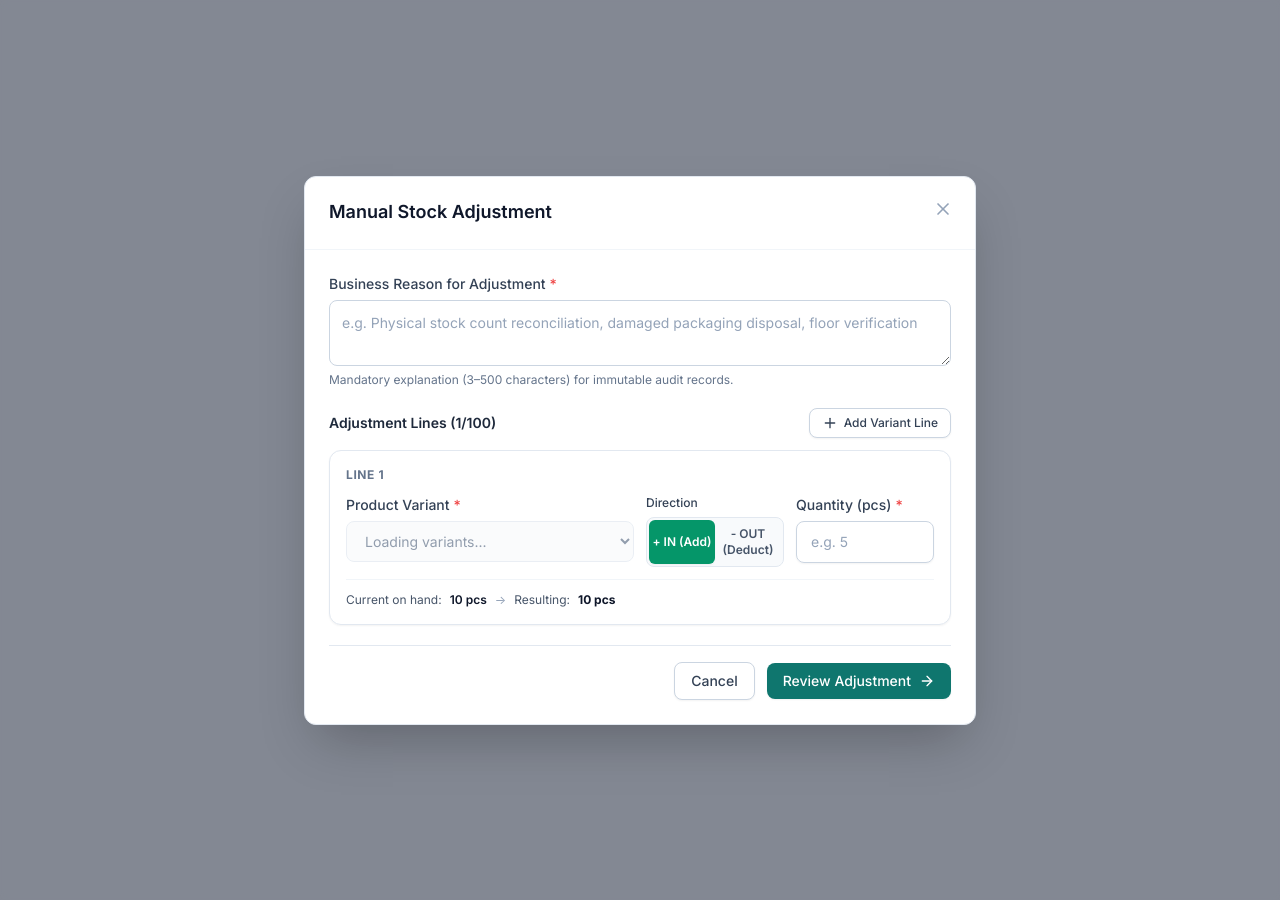
Scenario: StockAdjustmentModal Component Tests › proceeds to review step and commits adjustment successfully
Replace the text in the text box labelled "Business Reason for Adjustment*" with "Physical annual verification": (640, 332) [329, 300, 951, 366]
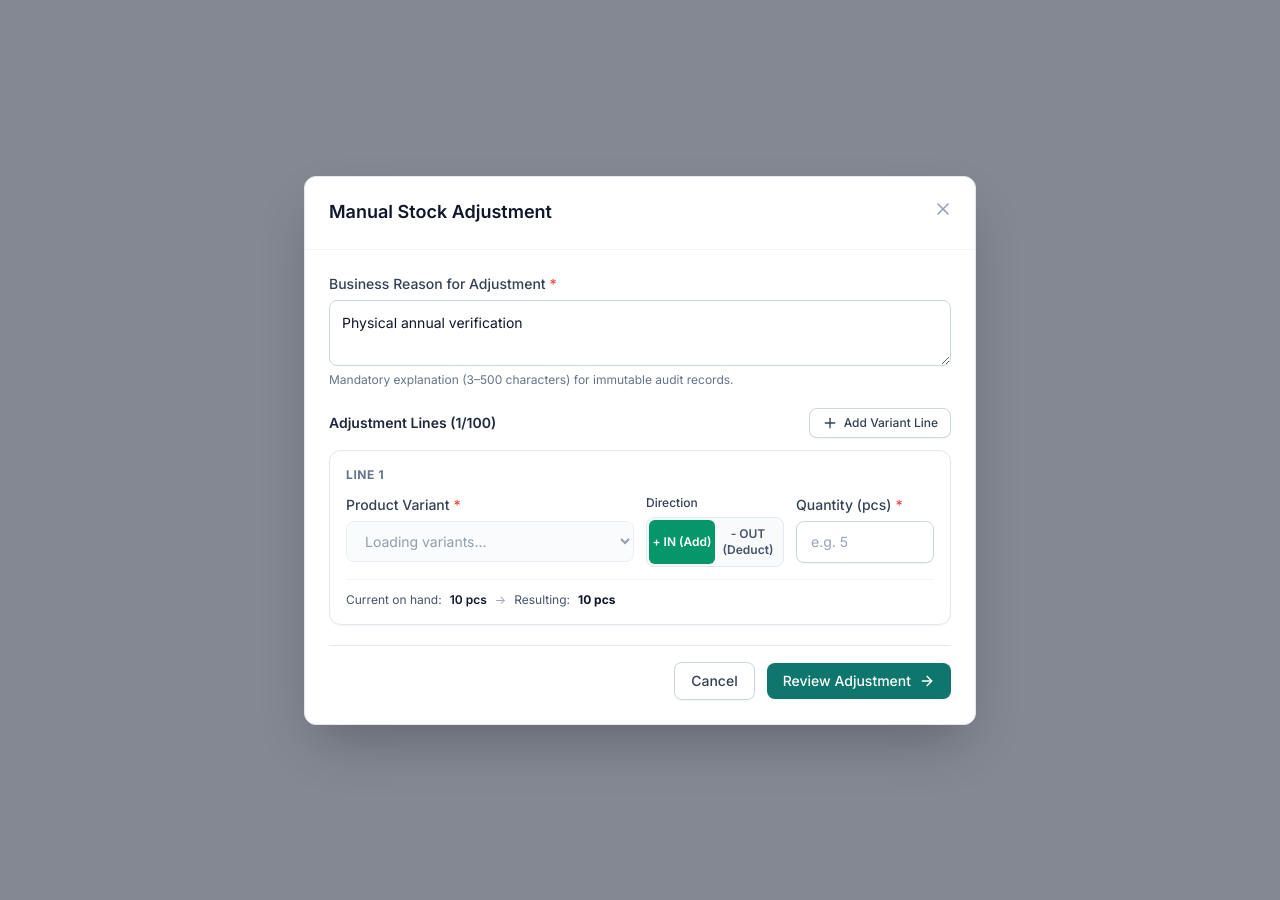
Quantity: 4 (IN)
In the number field with placeholder "e.g. 5": (865, 542) [796, 520, 934, 562], type "4"
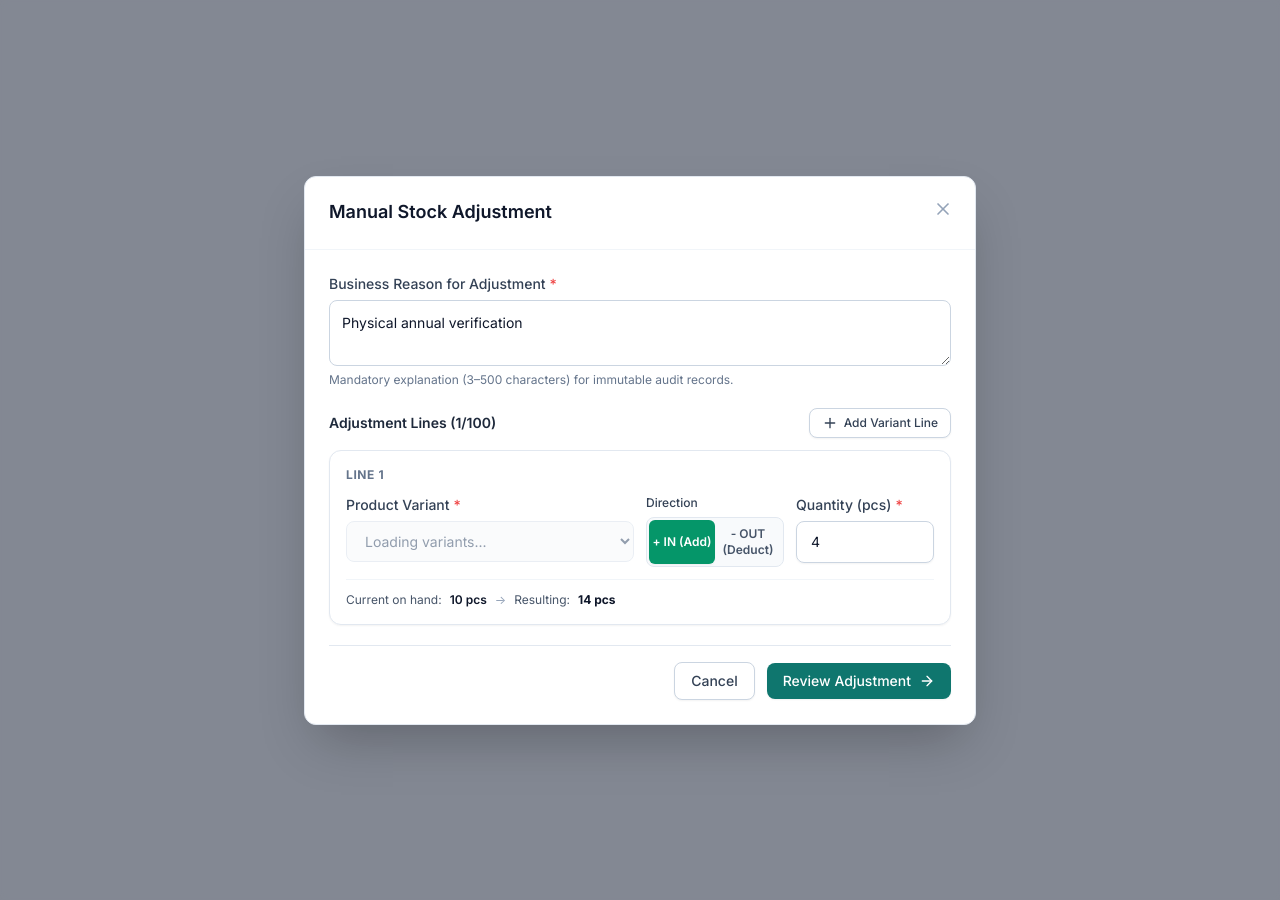
Proceed to review
Click the button "Review Adjustment": (859, 680) [767, 662, 951, 698]
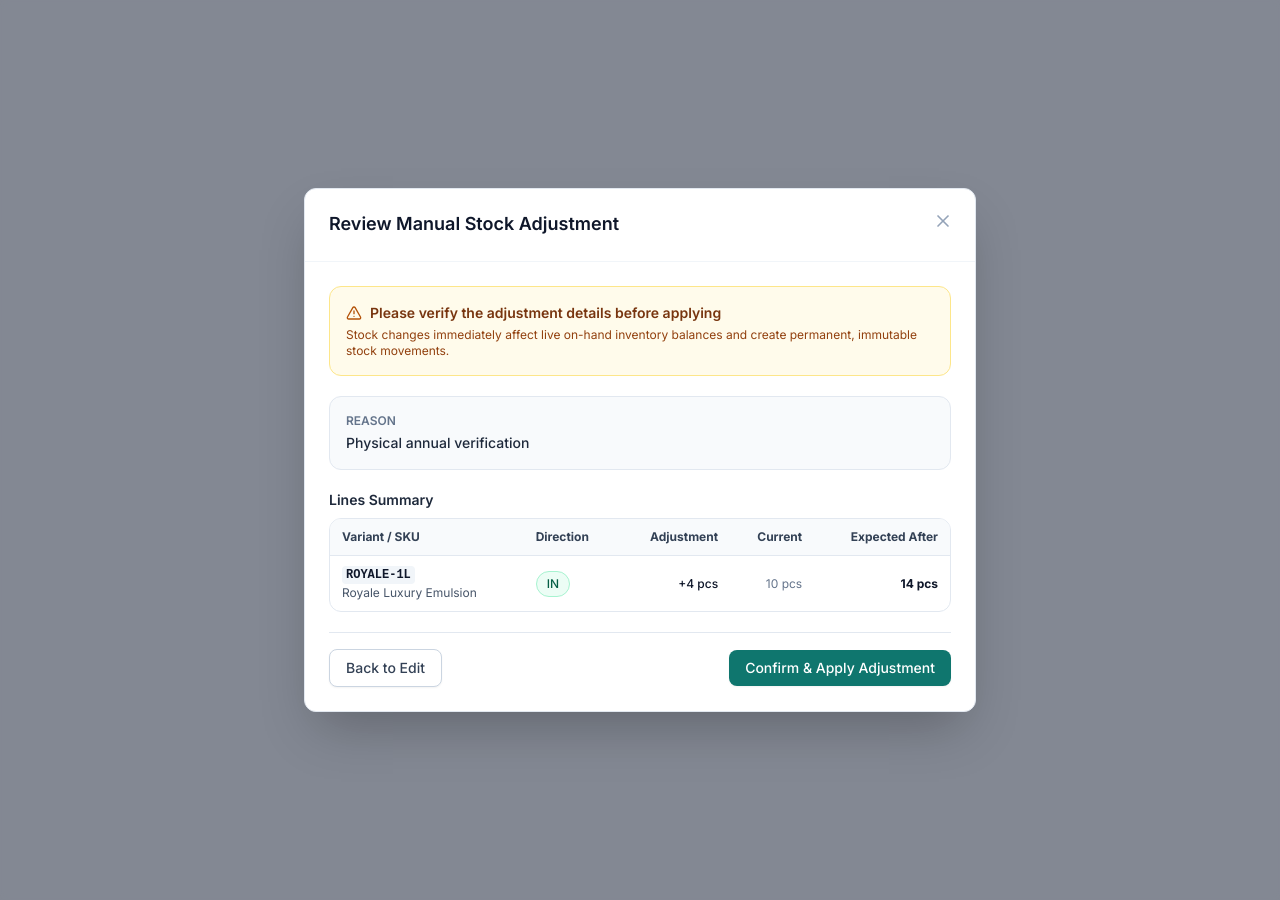
Now the text "14 pcs" is shown, box [814, 556, 950, 611]
Now the text "Please verify the adjustment details before applying" is shown, box [346, 304, 721, 321]
Now the text "+4 pcs" is shown, box [618, 556, 730, 611]
Confirm submission
Click the button "Confirm & Apply Adjustment": (840, 668) [729, 650, 951, 686]
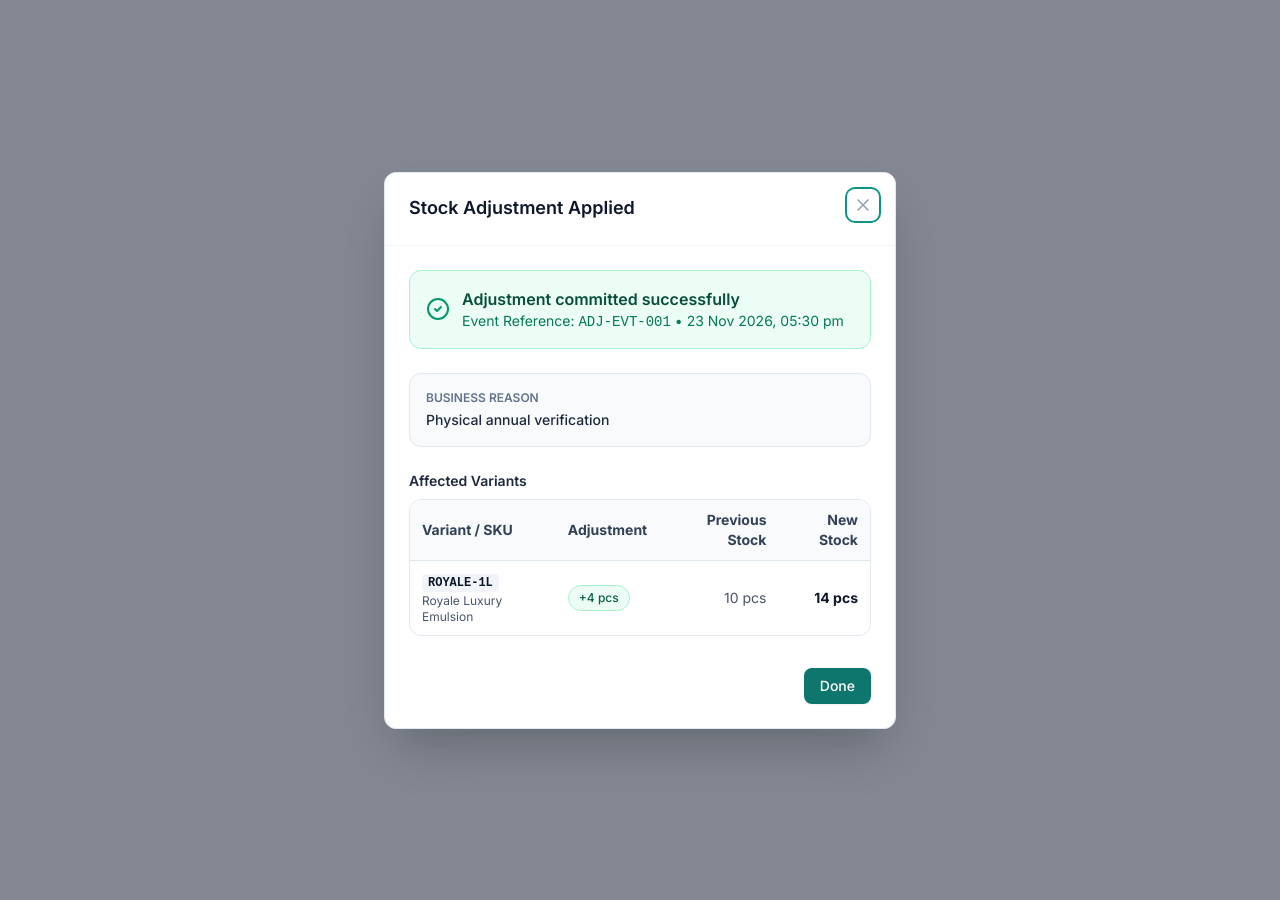
Now the text "Adjustment committed successfully" is shown, box [462, 288, 740, 308]
Now the heading "Stock Adjustment Applied" is shown, box [409, 196, 635, 219]
